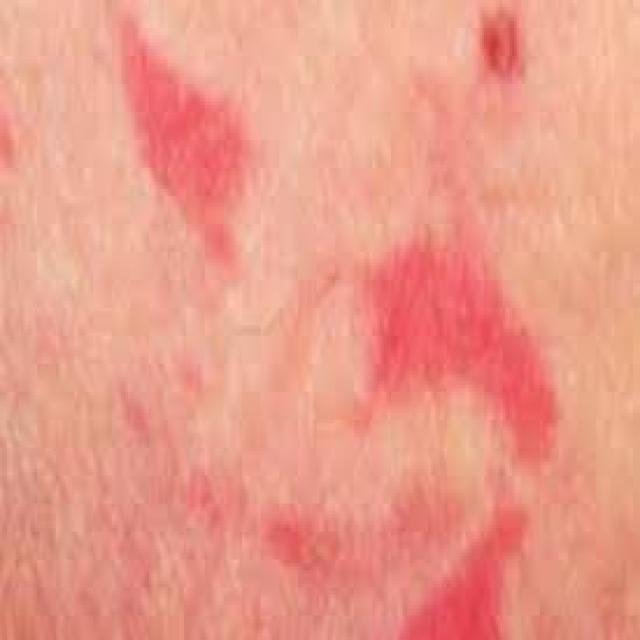stage-1: (370, 236, 557, 461), (114, 29, 238, 272), (263, 484, 457, 590), (405, 487, 535, 640), (480, 16, 524, 79)
